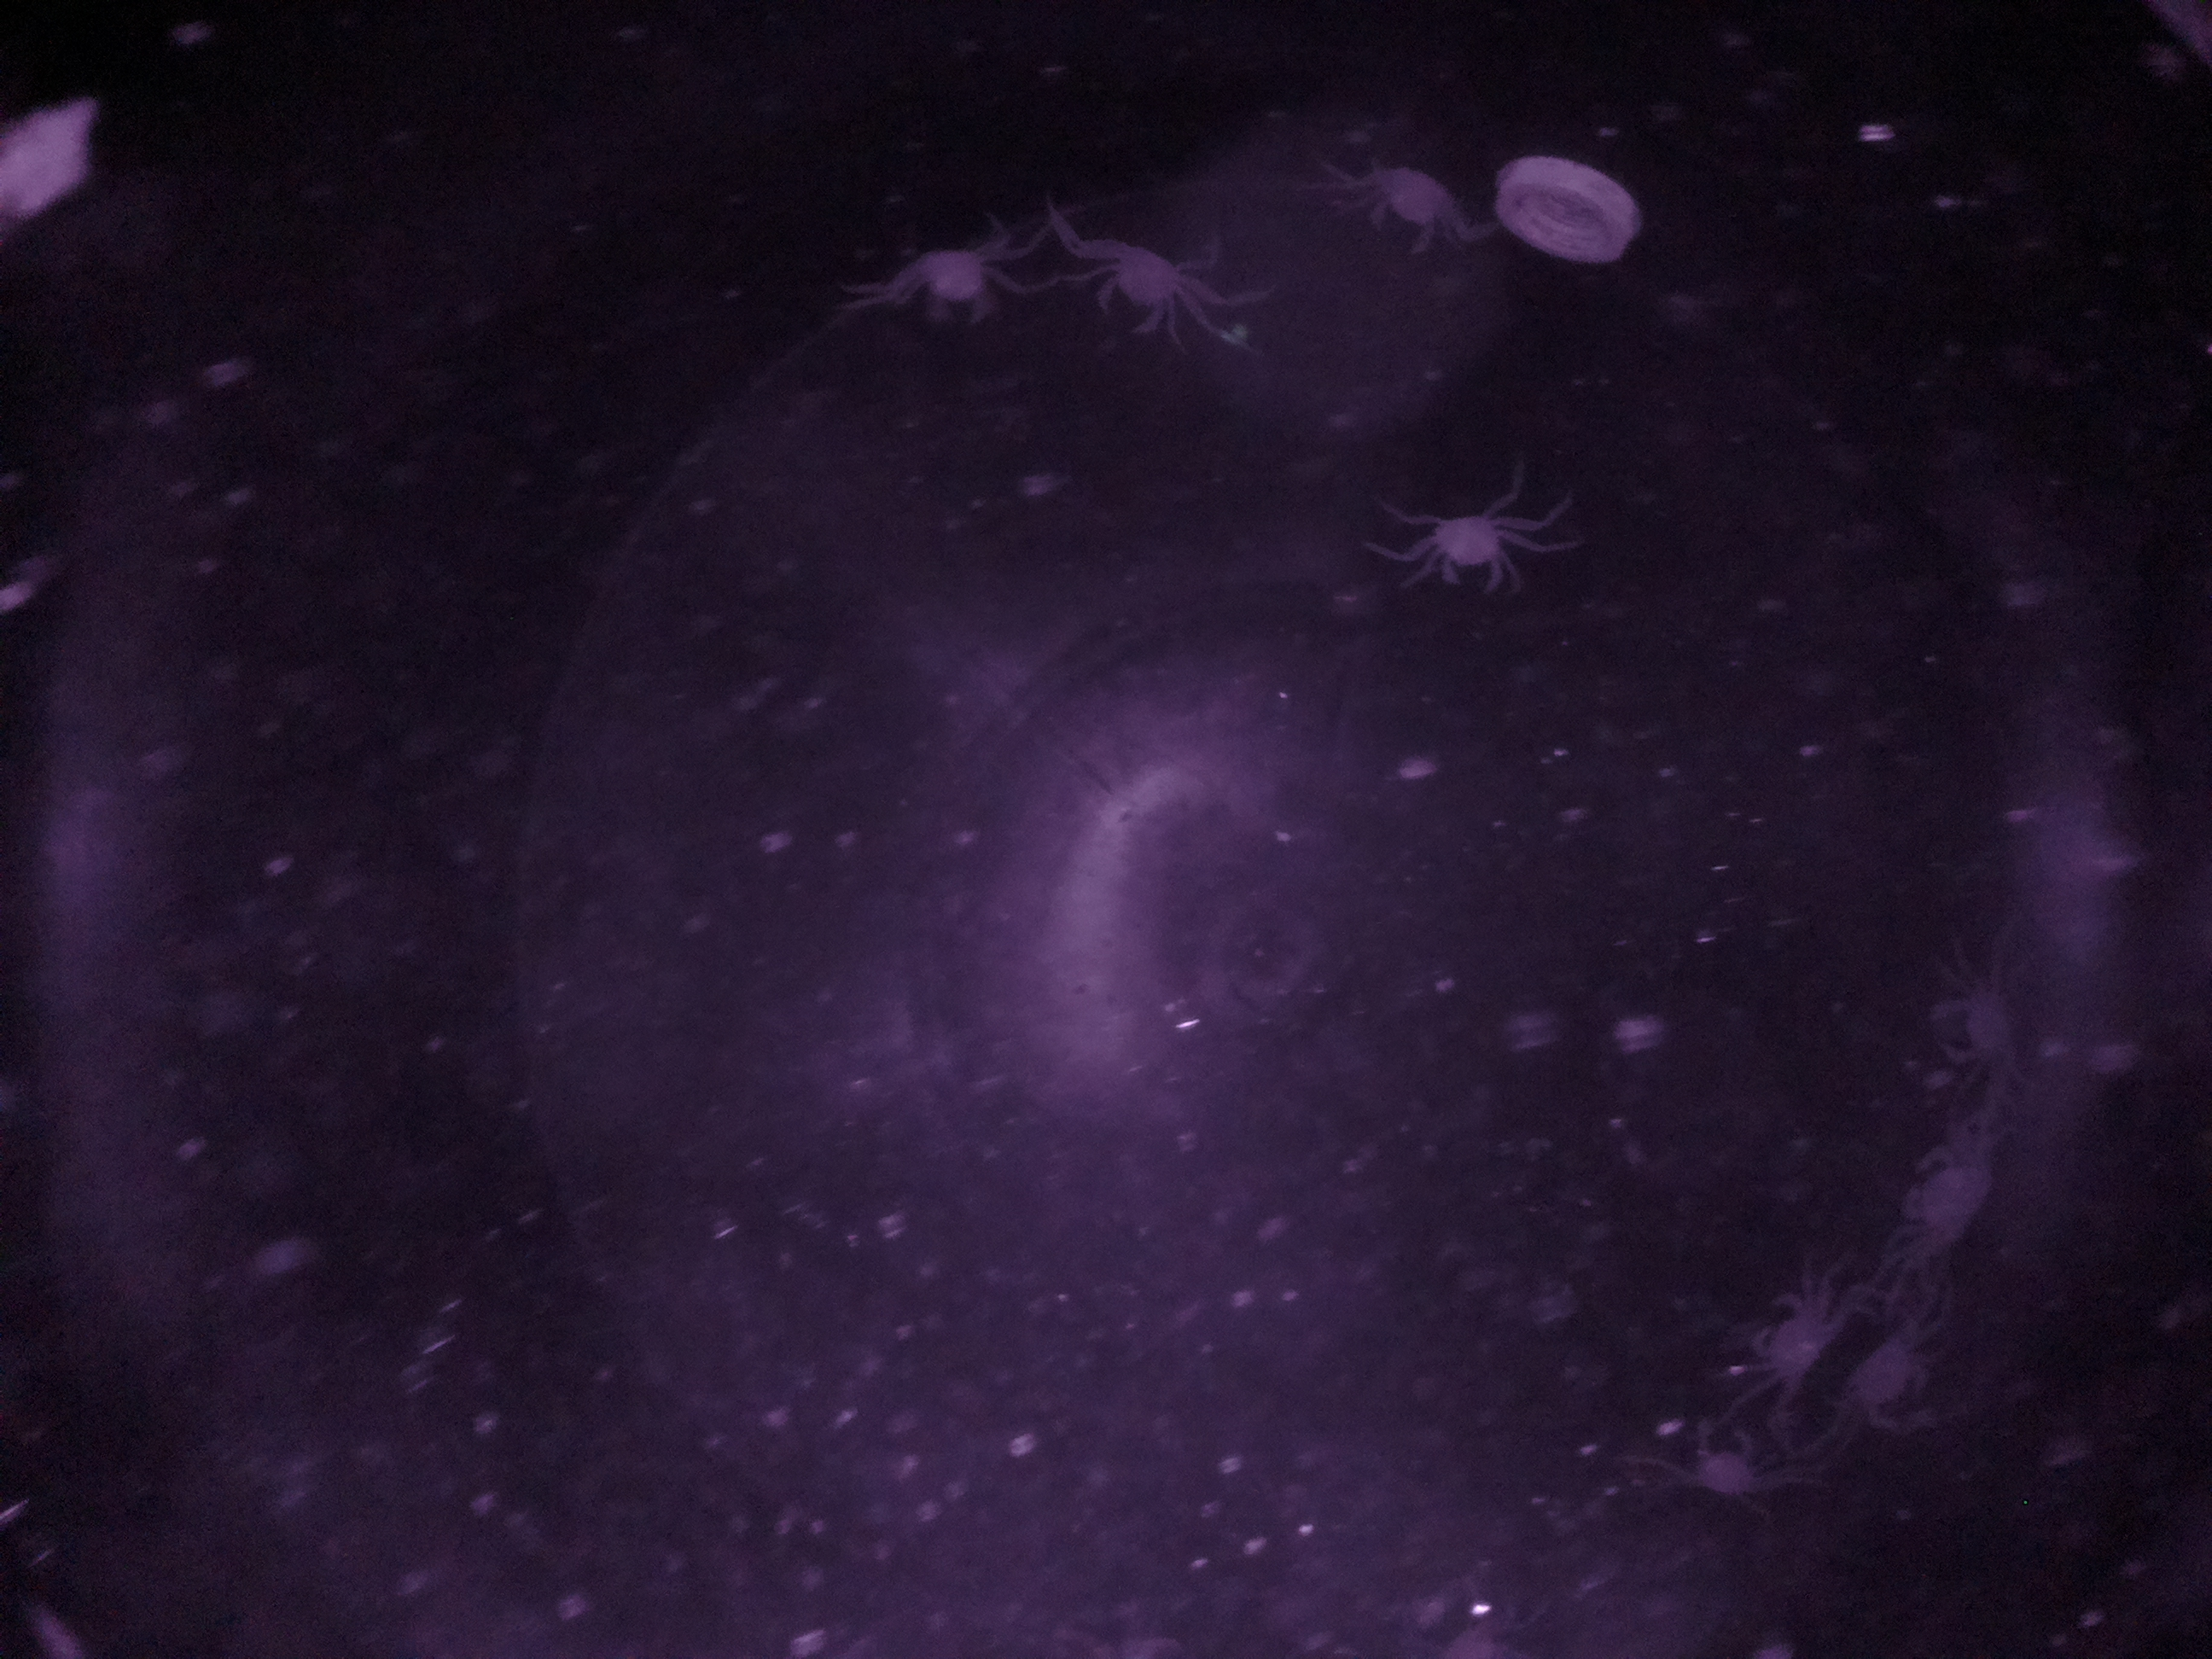Crab: (1083, 221, 1190, 352), (1738, 1284, 1851, 1398), (1359, 153, 1461, 275), (909, 218, 1012, 336), (1426, 488, 1522, 606)
